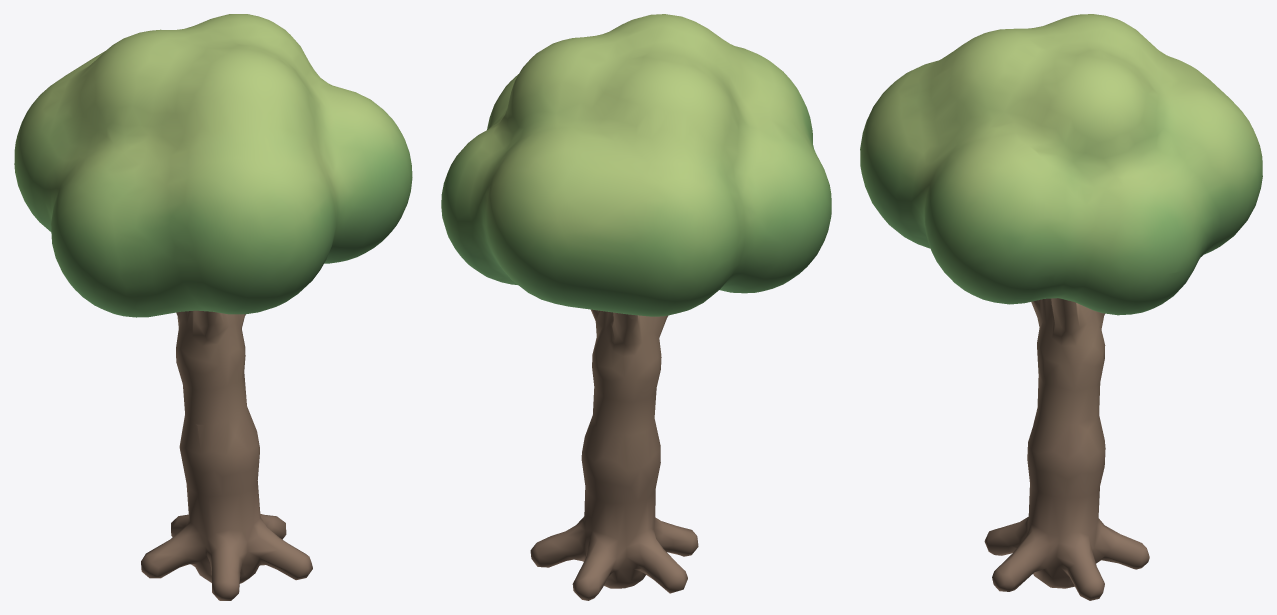
File: Tree_Round_2.fbx
The picture shows the model from 3 angles, left to right: view 1: azimuth 30°, elevation 25°; view 2: azimuth 150°, elevation 25°; view 3: azimuth 270°, elevation 25°; orthographic projection.
Visible parts, largest first — view 1: Tree_Round_2; view 2: Tree_Round_2; view 3: Tree_Round_2.
Boxes of the visible parts, bbox=[...] form: Tree_Round_2: bbox=[14, 14, 412, 600]; Tree_Round_2: bbox=[441, 14, 831, 600]; Tree_Round_2: bbox=[860, 14, 1262, 600].
Size of the model in its own units: 4.26 by 6.79 by 4.58.
